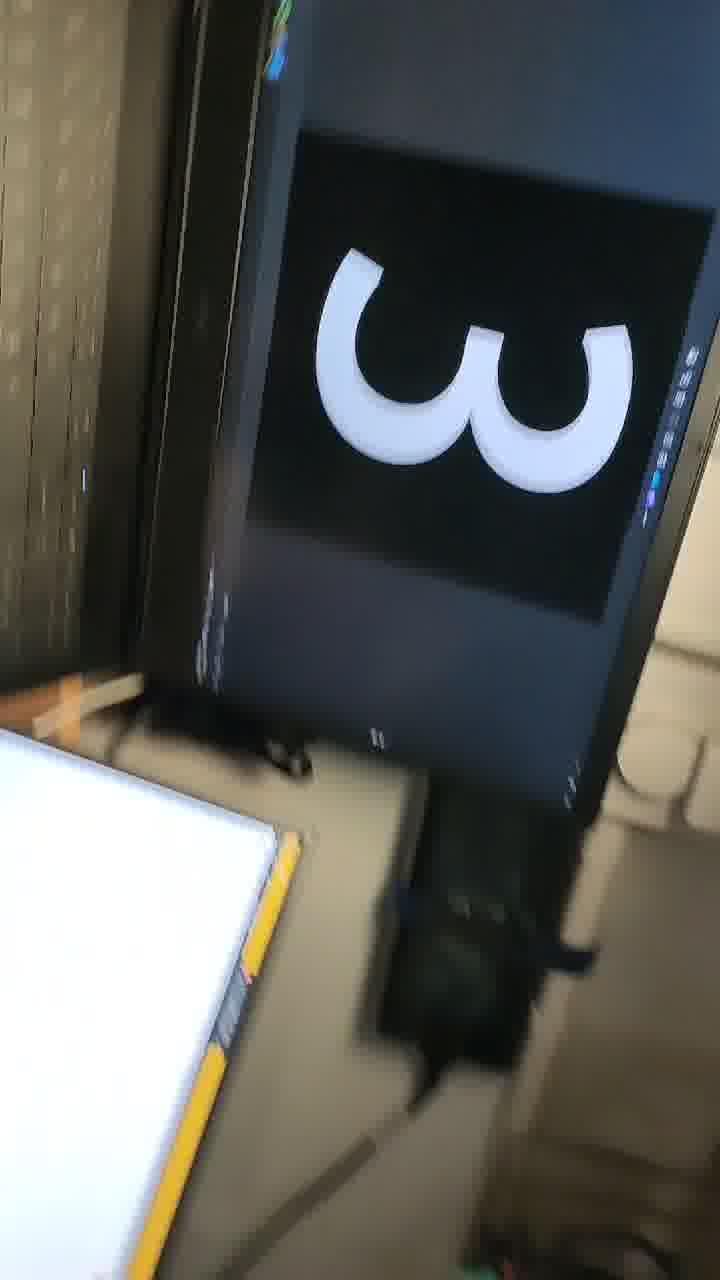three: (268, 215, 678, 557)
